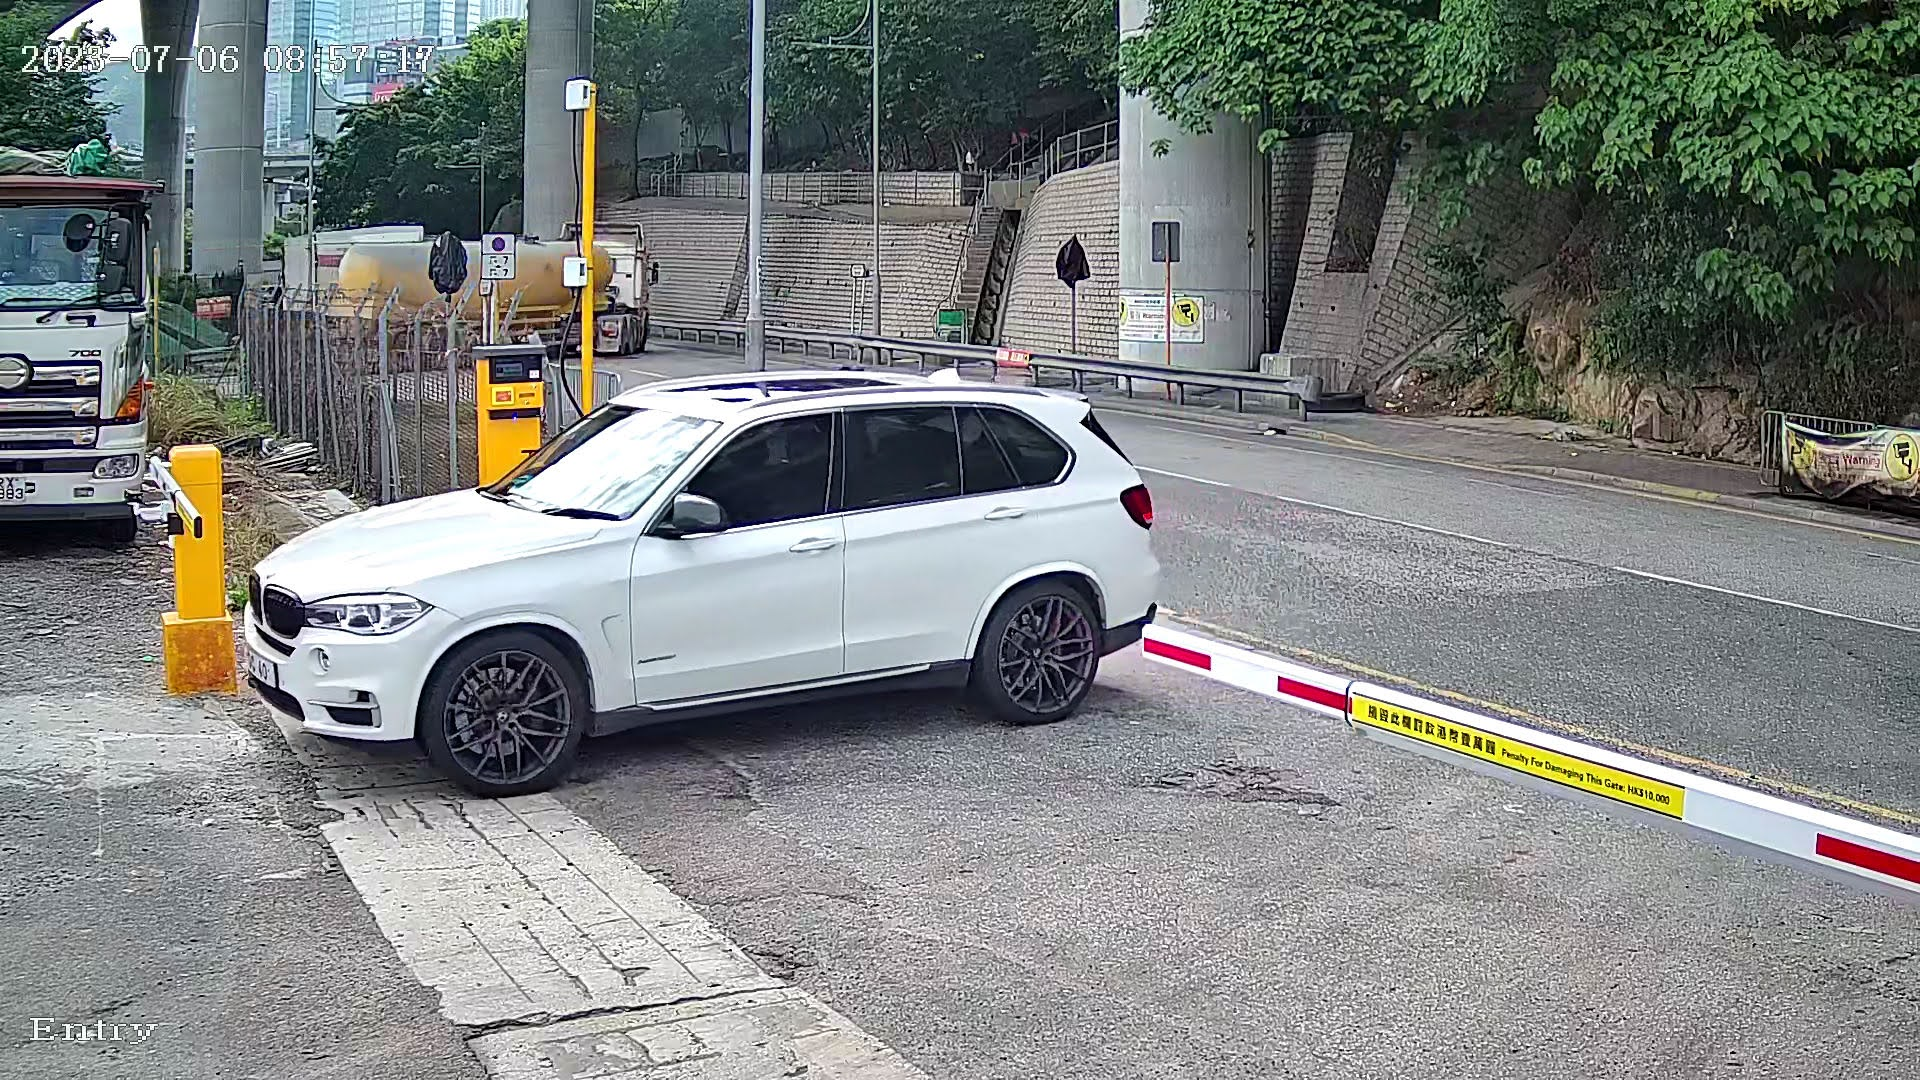privatecar: (182, 229, 1244, 833)
